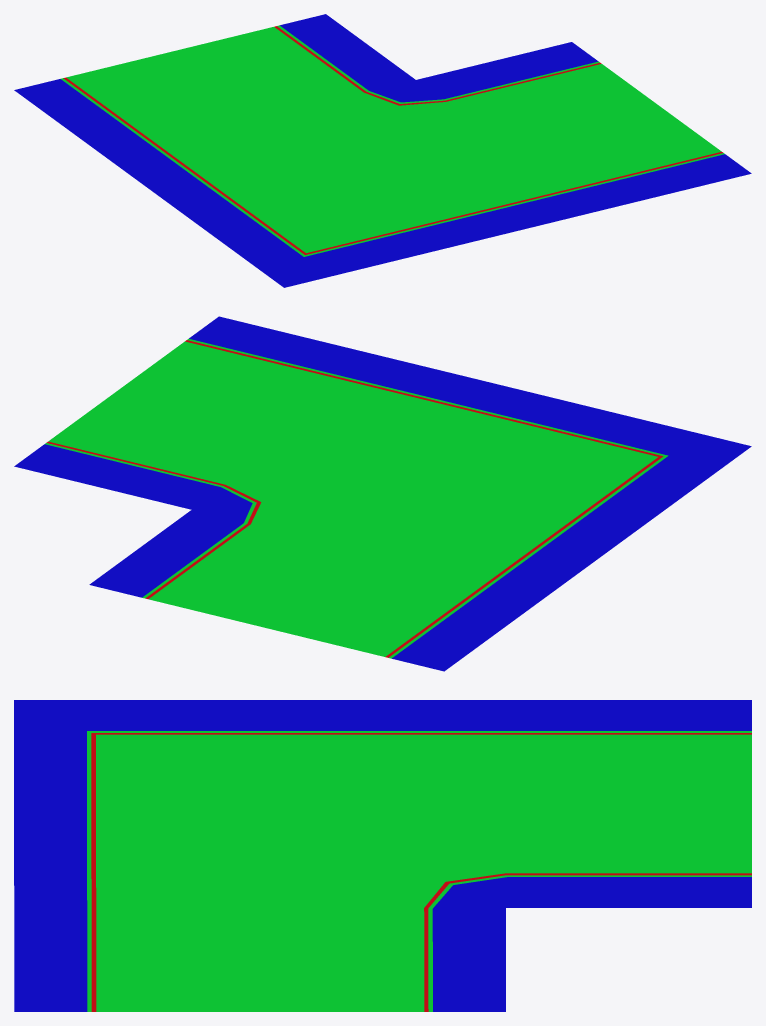
Rendered from wide_turn.fbx.
3 views of the same model, one above another, from view 1: azimuth 30°, elevation 25°; view 2: azimuth 150°, elevation 25°; view 3: azimuth 270°, elevation 25° (orthographic). The views are drawn at different scales.
Visible parts, largest first — view 1: Plane.073; view 2: Plane.073; view 3: Plane.073.
Part boxes in pixels (box(x1,y1,x2,y2)): Plane.073: box(14, 14, 751, 287); Plane.073: box(14, 316, 751, 671); Plane.073: box(14, 700, 751, 1011).
Size of the model in its own units: 900 by 0.000152 by 900.
